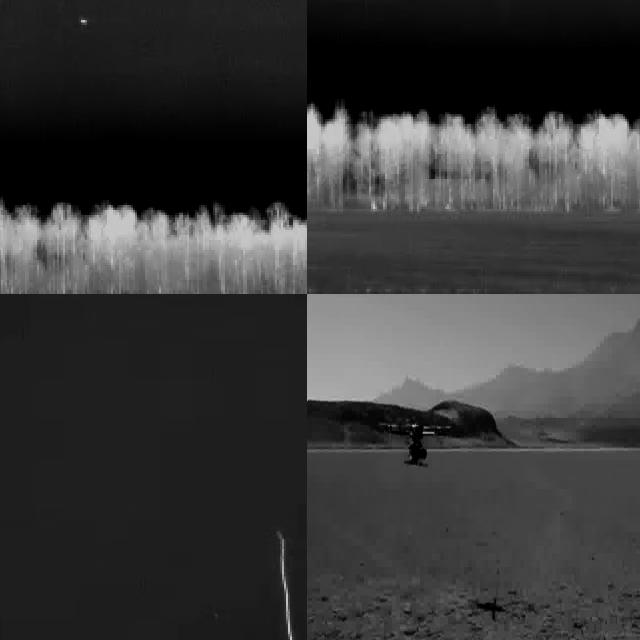0: (203, 606, 227, 636)
1: (65, 10, 95, 40)
drone: (380, 422, 449, 468)
